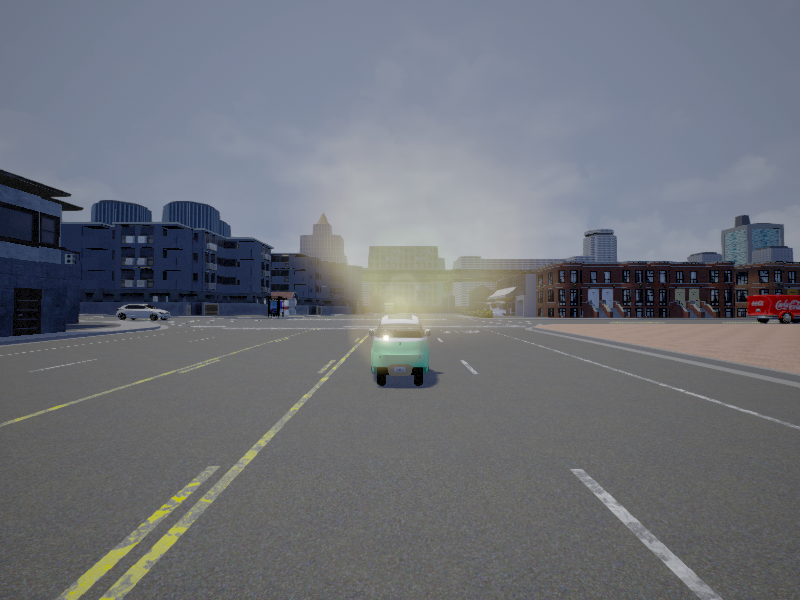Benign: (369, 314, 429, 387), (746, 294, 800, 323), (117, 303, 170, 322)
